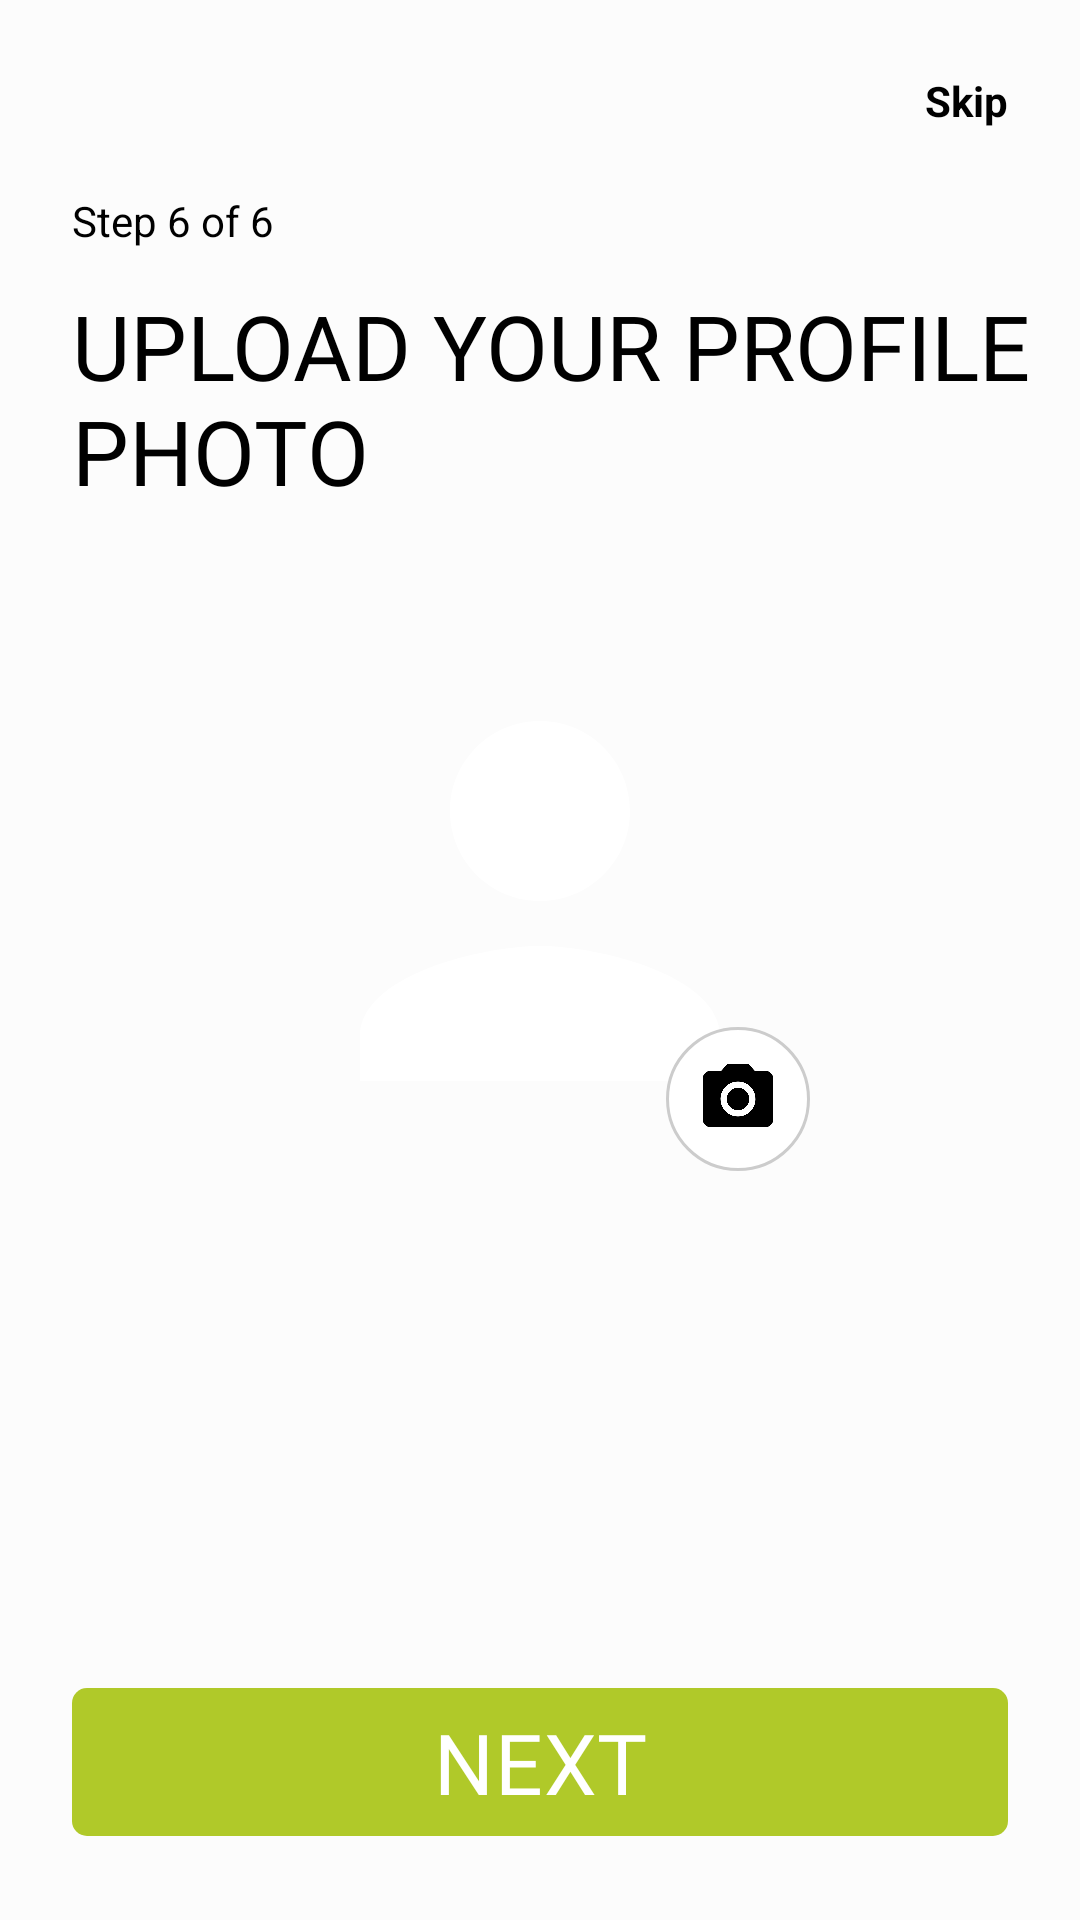

Where icons sit on this 1080*1920 app screen, as (x1, y1, x2, y2):
Change Photo: (666, 1027, 810, 1171)
